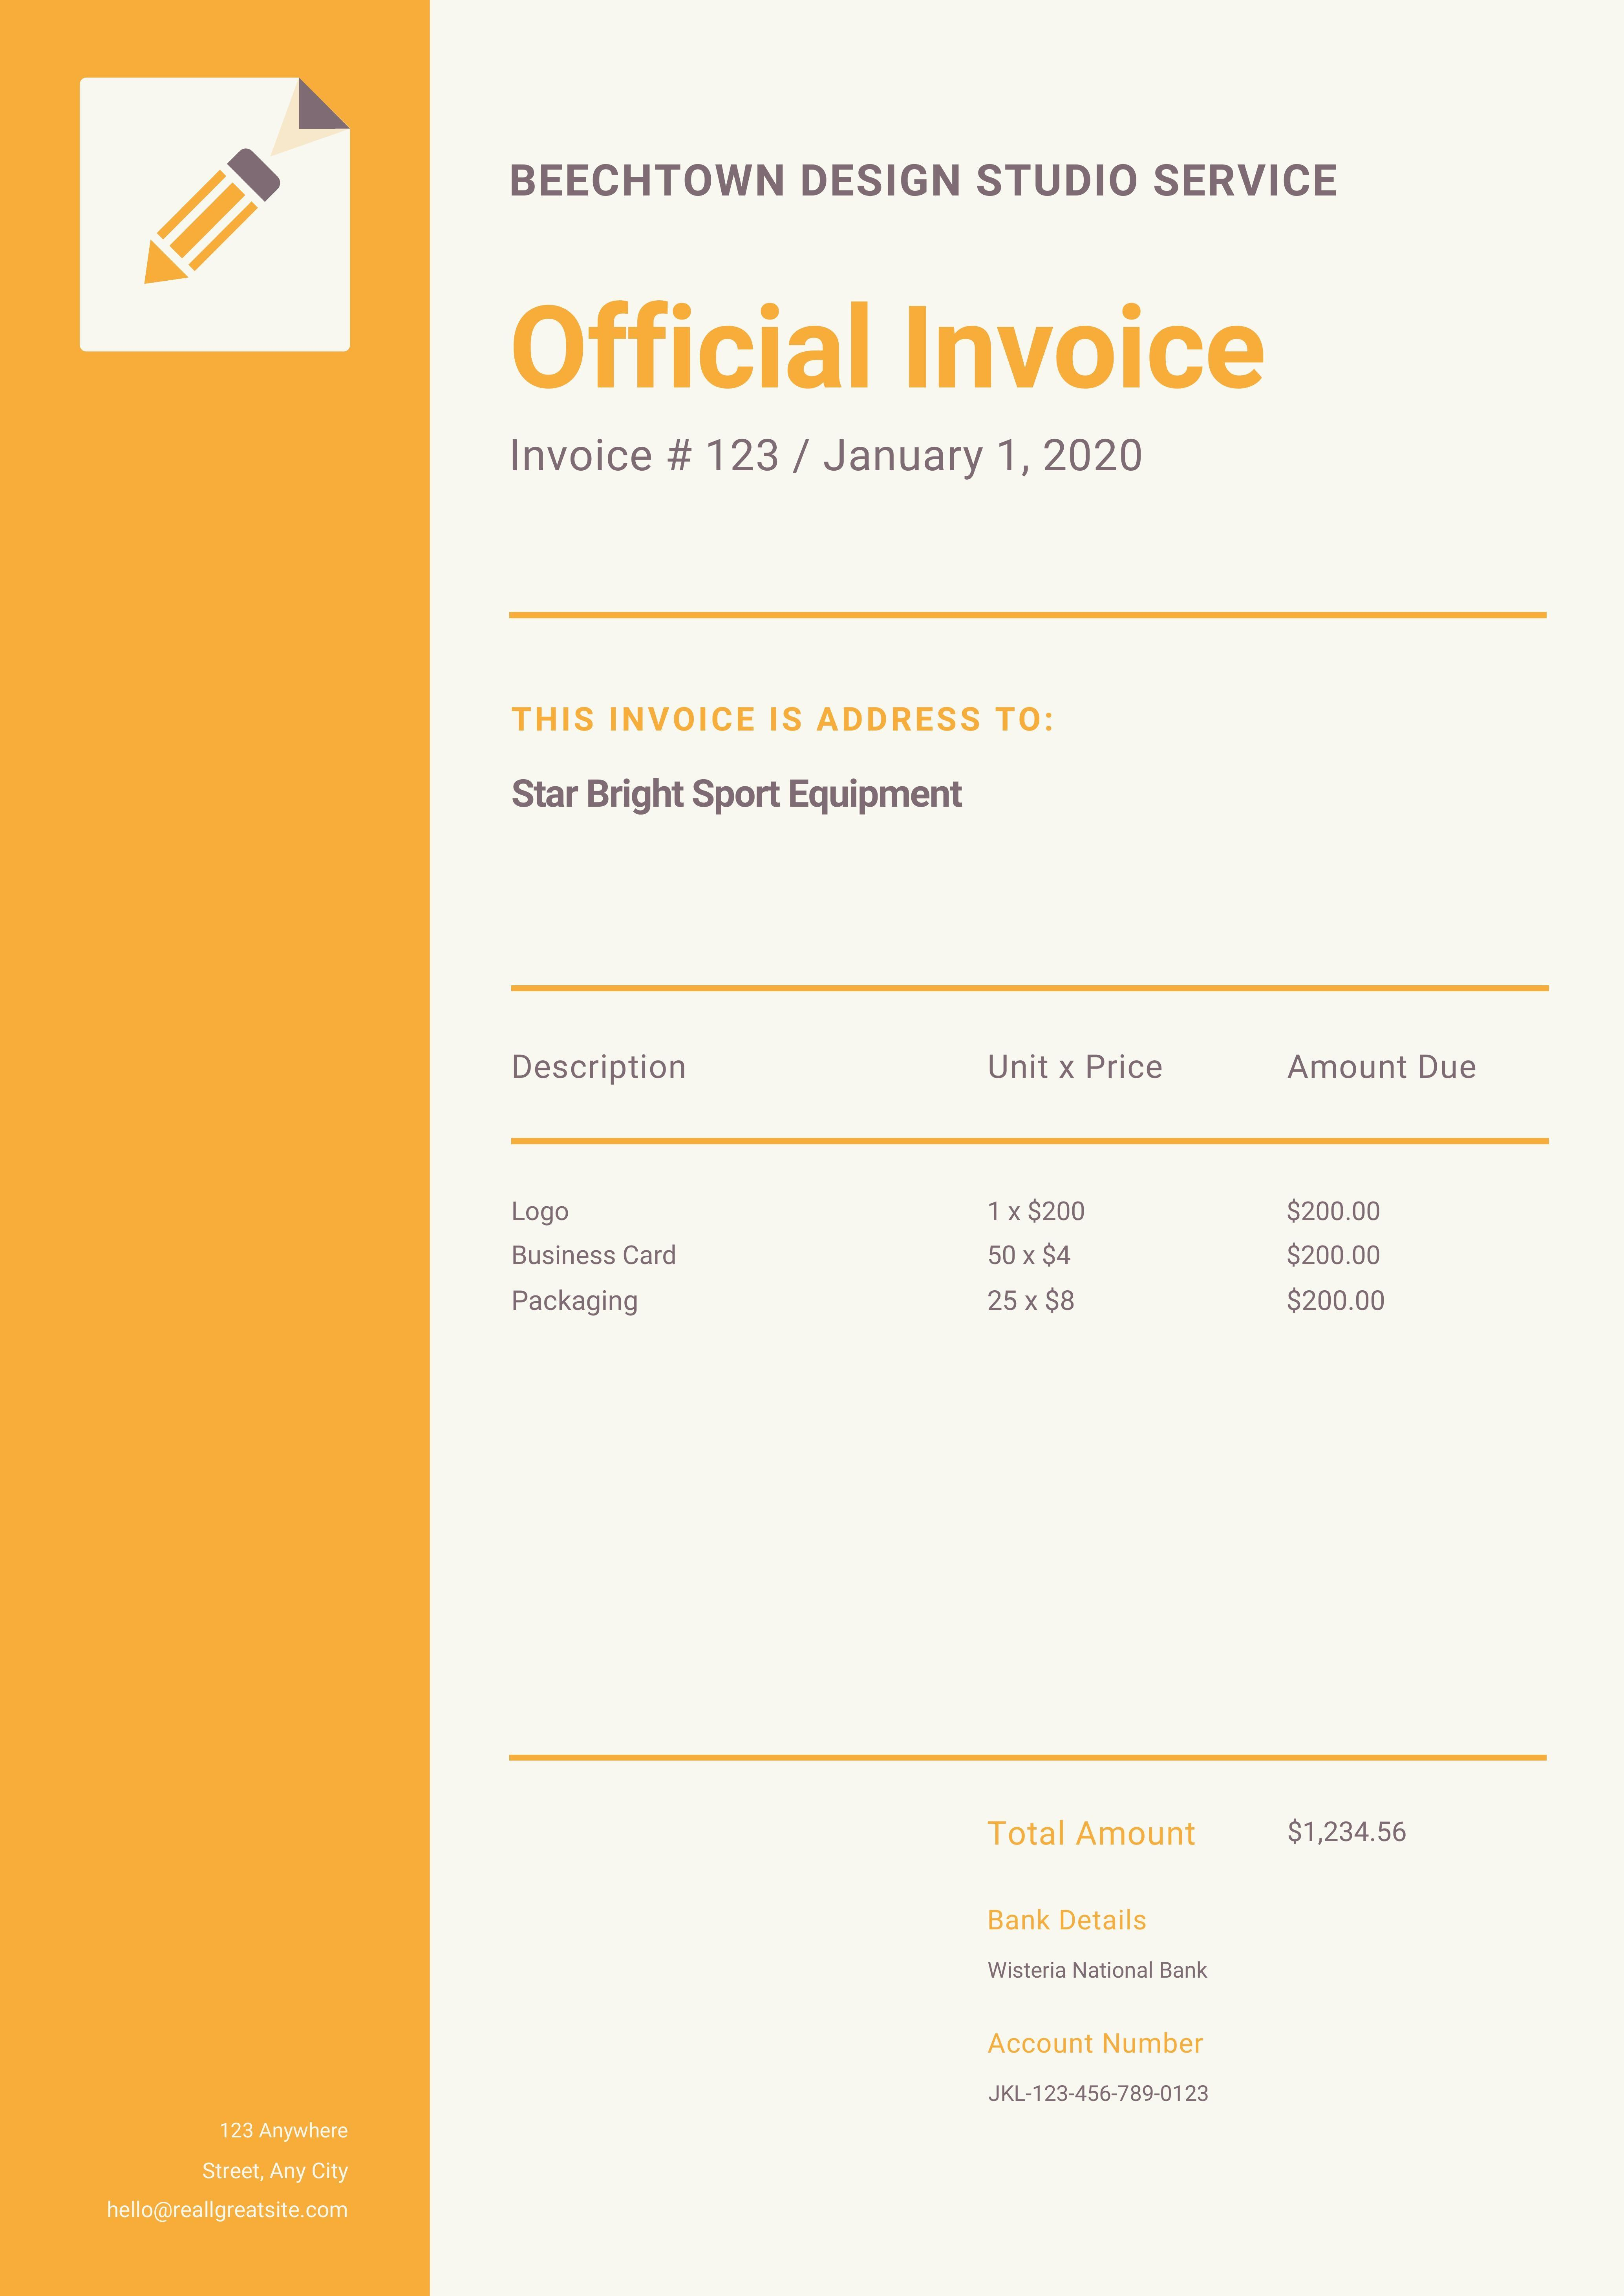ROI: (504, 1019, 1533, 1333), (482, 653, 1084, 878), (478, 109, 1394, 221), (970, 1887, 1345, 2124), (475, 409, 1202, 494), (972, 1811, 1613, 1871)
